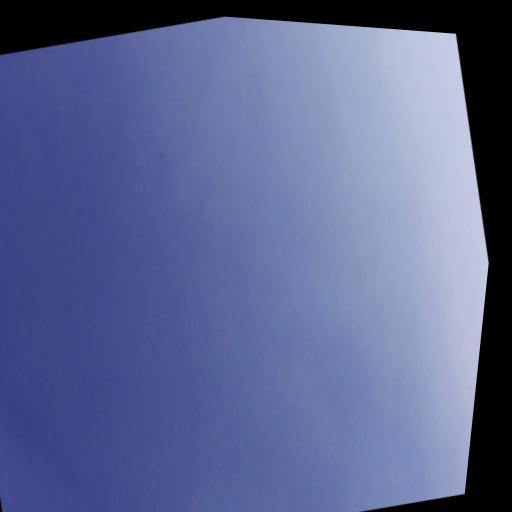drones: (158, 151, 166, 160)
